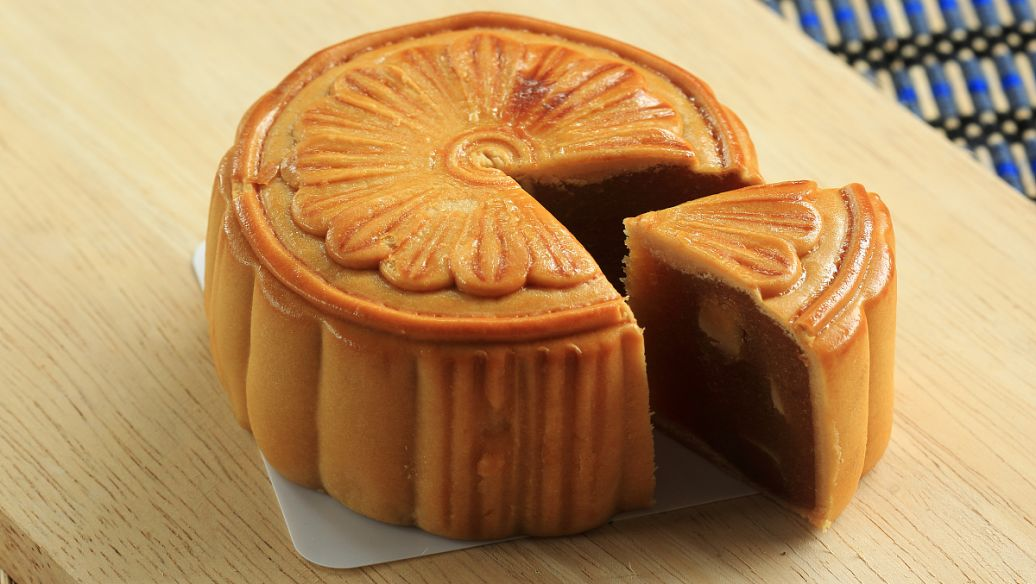MoonCake: (203, 9, 897, 541)
